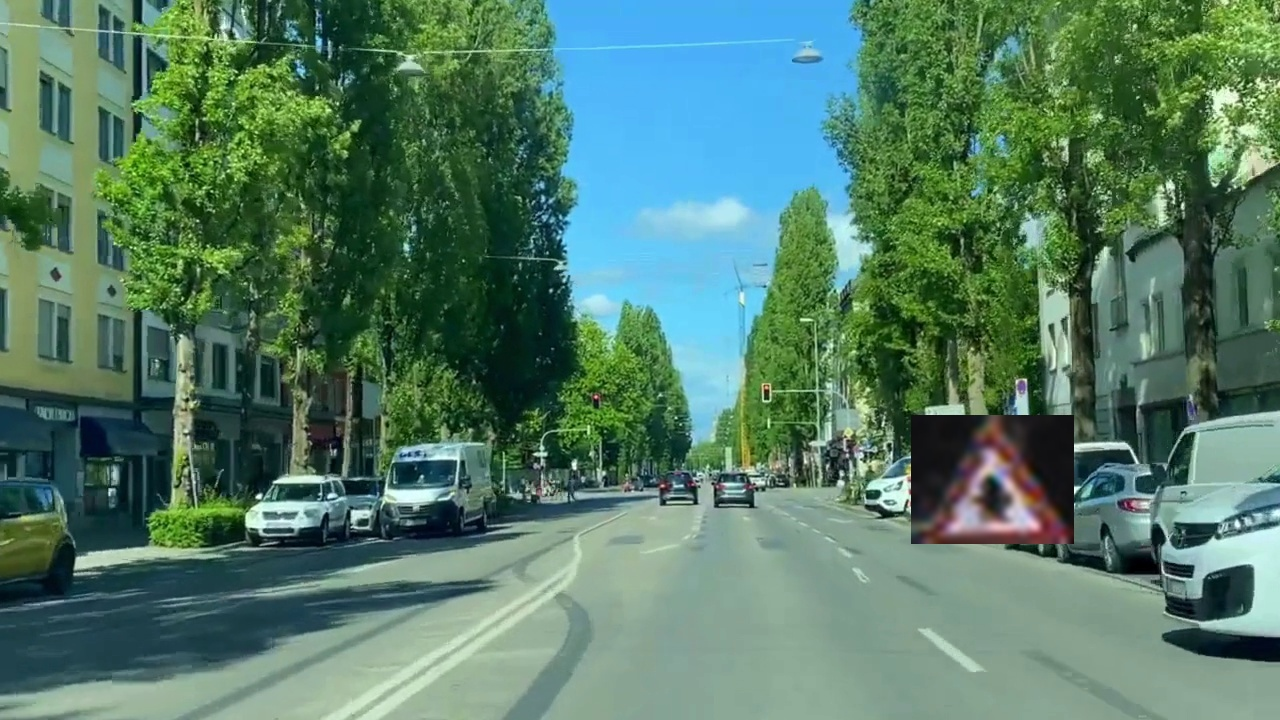Right-of-way: (911, 415, 1074, 544)
